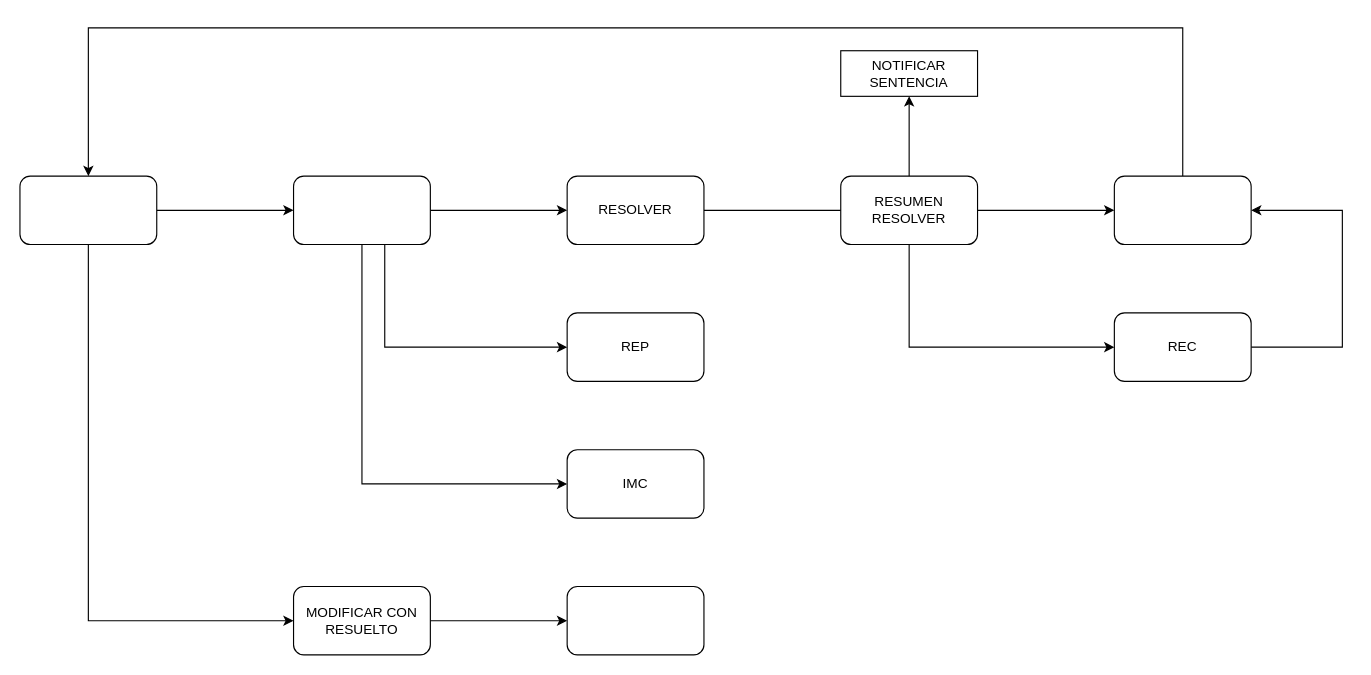
This 1371x675 diagram has some shape labels left out. Each missing label, with the centre of its shape:
COSTAS: the point at 1182,210
EJE: the point at 635,620
GESTIÓN CON: the point at 361,210
SERVICIO GESTIÓN CON: the point at 88,210
